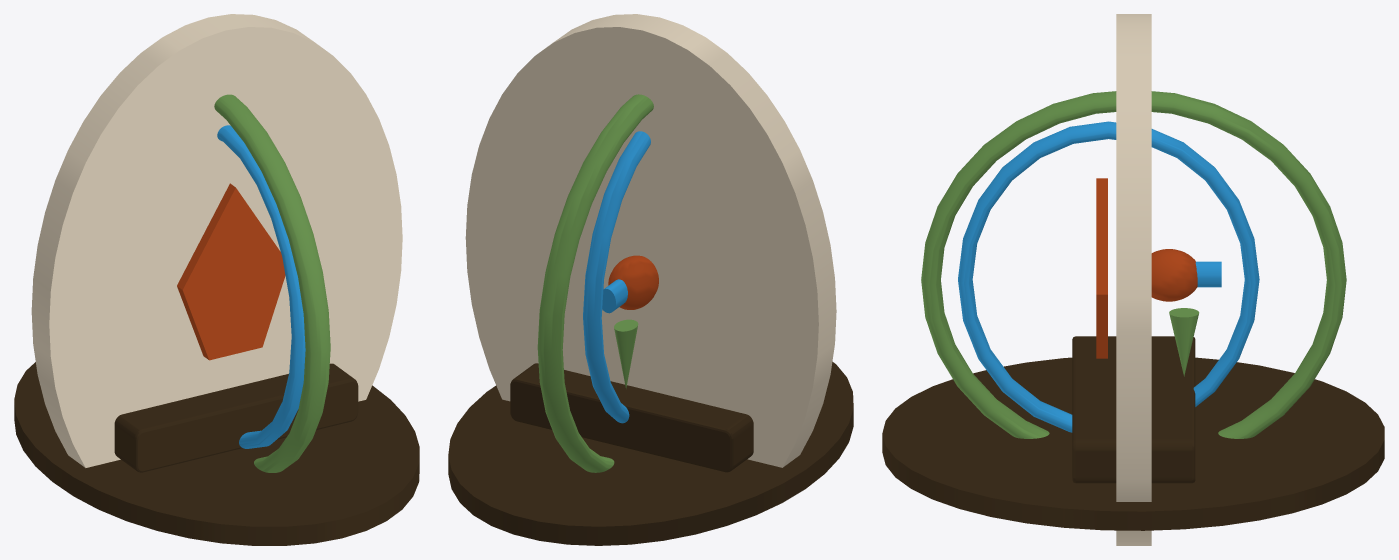
File: 0255_世界古代文明图鉴_芦苇笔.glb
3 renders of one model, left to right at view 1: azimuth 30°, elevation 25°; view 2: azimuth 150°, elevation 25°; view 3: azimuth 270°, elevation 25°, orthographic.
Visible parts, largest first — view 1: card_0255; view 2: card_0255; view 3: card_0255.
Boxes of the visible parts, left/top/right/bottom form: card_0255: left=14, top=14, right=419, bottom=545; card_0255: left=448, top=14, right=853, bottom=545; card_0255: left=882, top=14, right=1384, bottom=545.
Size of the model in its own units: 0.7369 by 1 by 0.903.
